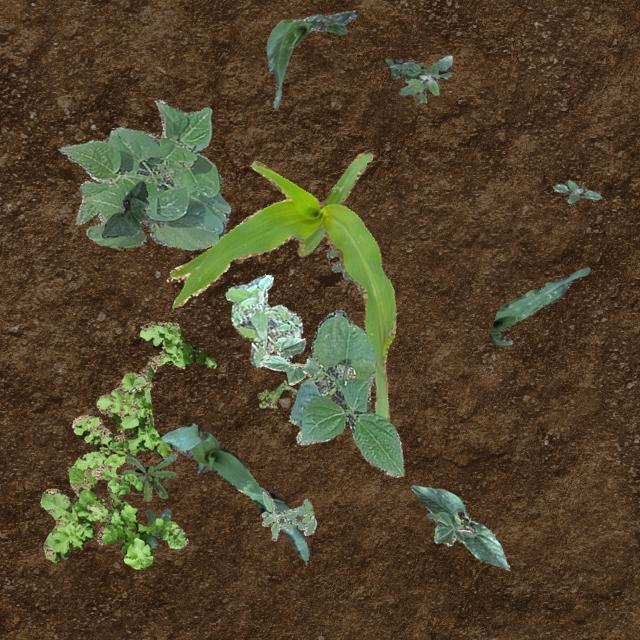crop: (168, 150, 396, 420), (58, 100, 230, 250), (158, 422, 308, 560), (288, 308, 402, 476), (266, 10, 358, 109), (409, 484, 508, 568), (488, 266, 590, 344), (258, 336, 316, 384), (100, 180, 148, 237)
weed: (41, 319, 216, 562), (86, 462, 186, 568), (224, 272, 302, 366), (384, 54, 452, 102), (260, 488, 316, 540), (122, 452, 176, 501), (325, 245, 361, 292), (552, 178, 600, 202), (256, 378, 296, 406), (144, 508, 170, 548)
